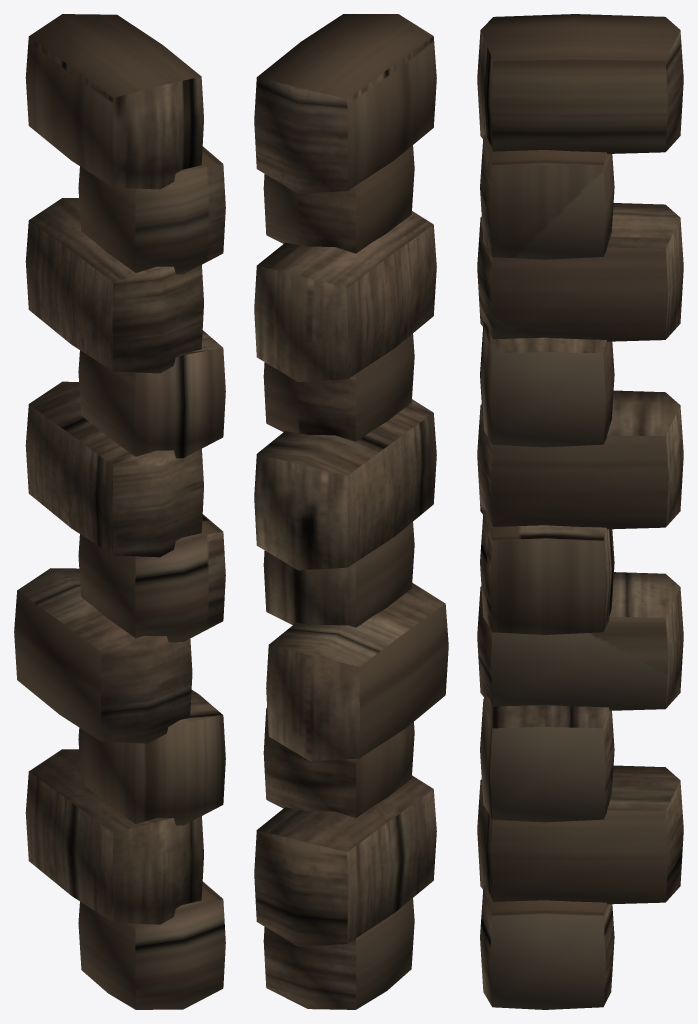
File: EncajeIZQ.fbx
The picture shows the model from 3 angles, left to right: view 1: azimuth 30°, elevation 25°; view 2: azimuth 150°, elevation 25°; view 3: azimuth 270°, elevation 25°; orthographic projection. The views are drawn at different scales.
Parts seen in each view (by area): view 1: Object; view 2: Object; view 3: Object.
Part boxes in pixels (x1=…): Object: x1=14, y1=14, x2=225, y2=1009; Object: x1=254, y1=14, x2=448, y2=1009; Object: x1=477, y1=14, x2=683, y2=1009.
Size of the model in its own units: 64.98 by 443 by 86.79.
